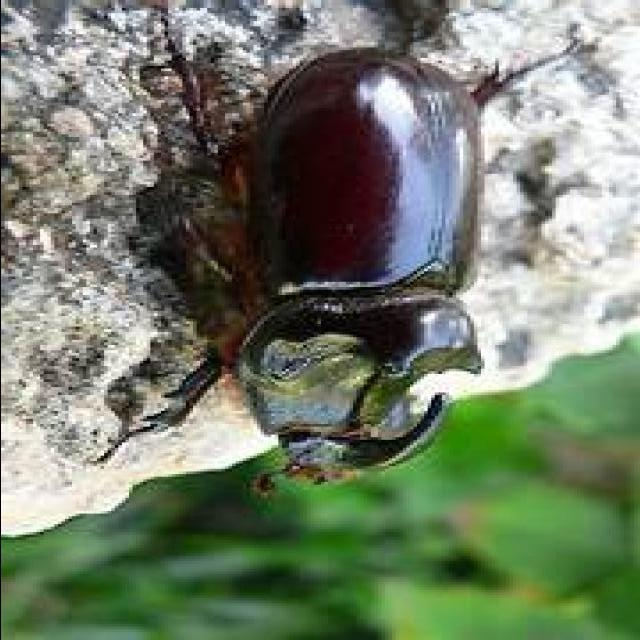Rhino-beetle: (198, 22, 498, 514)
